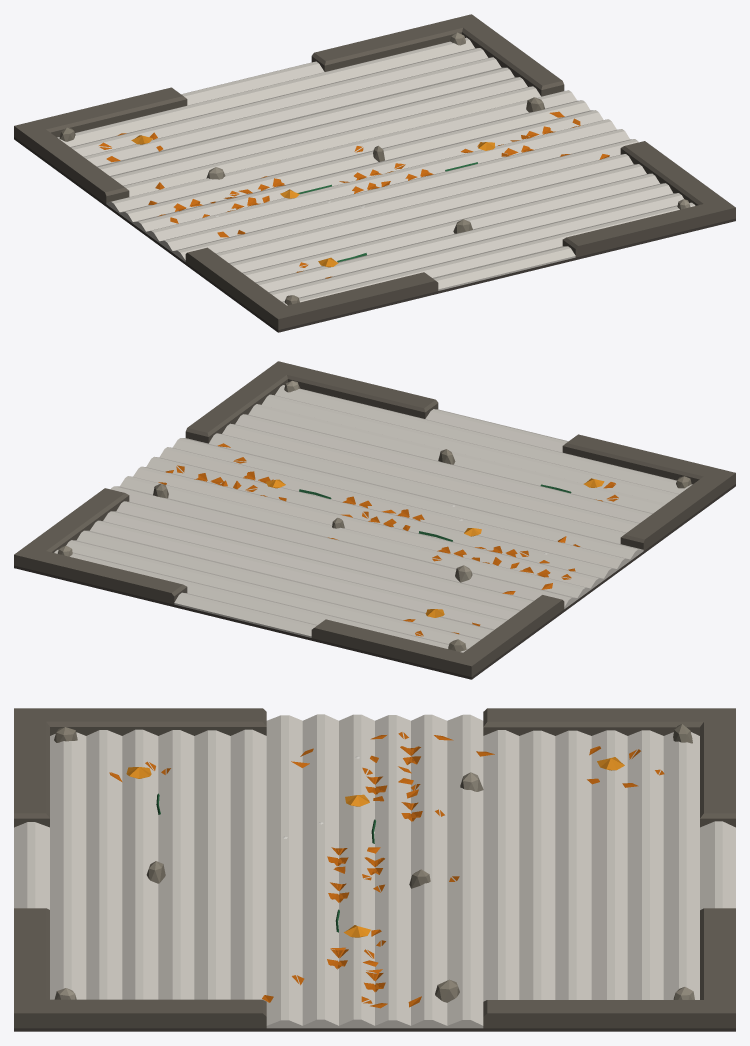
The model's file is cemetery-gravel-path-tile-d41d0d.glb.
3 views of the same model, one above another, from view 1: azimuth 30°, elevation 25°; view 2: azimuth 150°, elevation 25°; view 3: azimuth 270°, elevation 25° (orthographic). The views are drawn at different scales.
Visible parts, largest first — view 1: gravel-path, corner-detail; view 2: gravel-path; view 3: gravel-path, corner-detail.
Boxes of the visible parts, bbox=[...] form: gravel-path: bbox=[14, 14, 735, 332]; corner-detail: bbox=[59, 127, 163, 162]; gravel-path: bbox=[14, 361, 735, 679]; gravel-path: bbox=[14, 708, 735, 1031]; corner-detail: bbox=[587, 724, 692, 787].
Bounding box in the file's own units: 2 × 0.0759 × 2.
